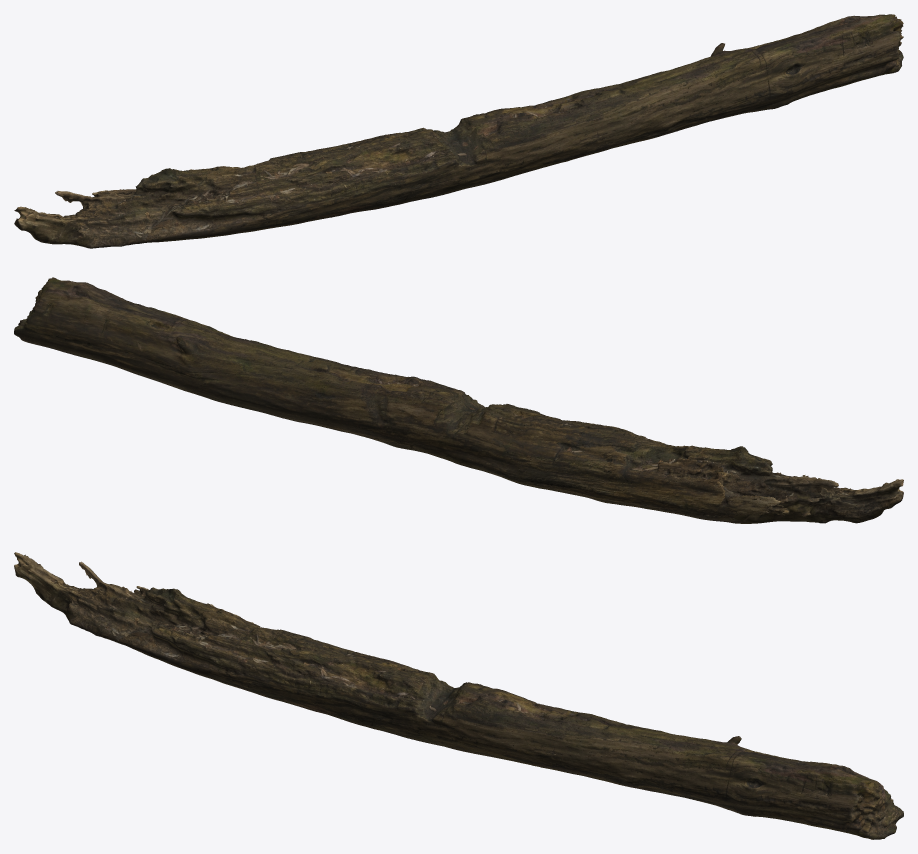
File: grounded-deadwood-source.glb
3 renders of one model, top to bottom at view 1: azimuth 30°, elevation 25°; view 2: azimuth 150°, elevation 25°; view 3: azimuth 330°, elevation 25°, orthographic.
Parts seen in each view (by area): view 1: grounded-deadwood-source runtime mesh; view 2: grounded-deadwood-source runtime mesh; view 3: grounded-deadwood-source runtime mesh.
Boxes of the visible parts, x1,y1,x2,y2 form: grounded-deadwood-source runtime mesh: (14, 14, 903, 248); grounded-deadwood-source runtime mesh: (14, 277, 903, 523); grounded-deadwood-source runtime mesh: (14, 552, 903, 839).
Bounding box in the file's own units: 2.1 × 0.1999 × 0.191.
Materials: 1 (1 with a texture image).
